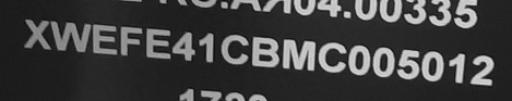letter: (280, 36, 318, 73), (50, 20, 92, 53), (316, 40, 348, 75), (21, 17, 53, 50), (250, 36, 280, 71), (144, 25, 172, 62), (219, 33, 249, 66), (116, 24, 144, 59), (90, 23, 118, 56), (469, 54, 497, 87), (346, 43, 372, 78), (172, 31, 198, 64), (370, 46, 396, 79), (395, 48, 421, 81), (420, 49, 444, 82), (446, 50, 466, 84), (196, 32, 216, 65)
